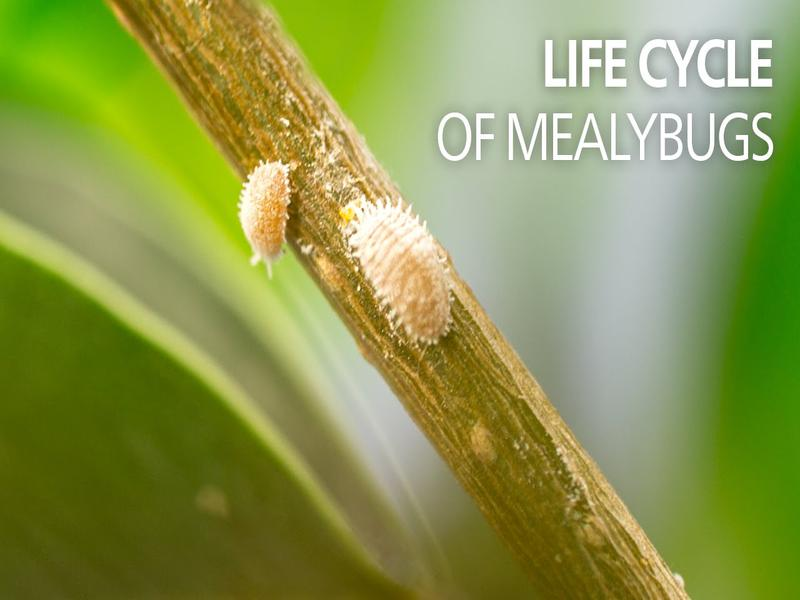Mealy_bug: (328, 190, 461, 363), (211, 140, 296, 289)
